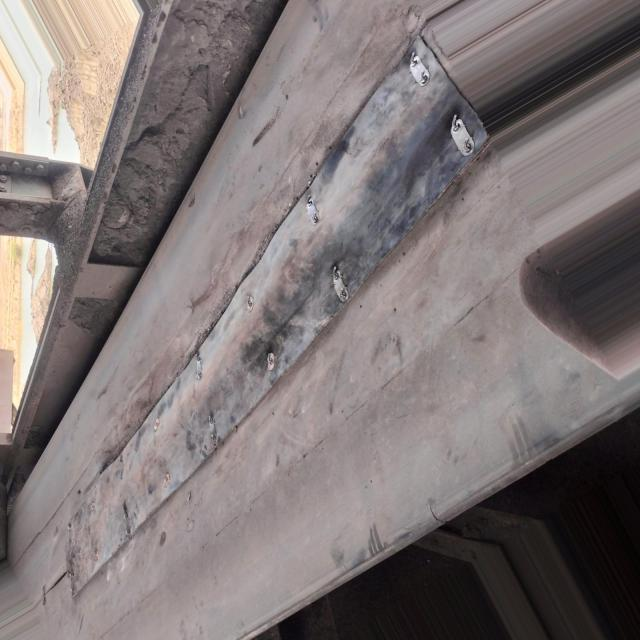patch work: (41, 13, 508, 612)
